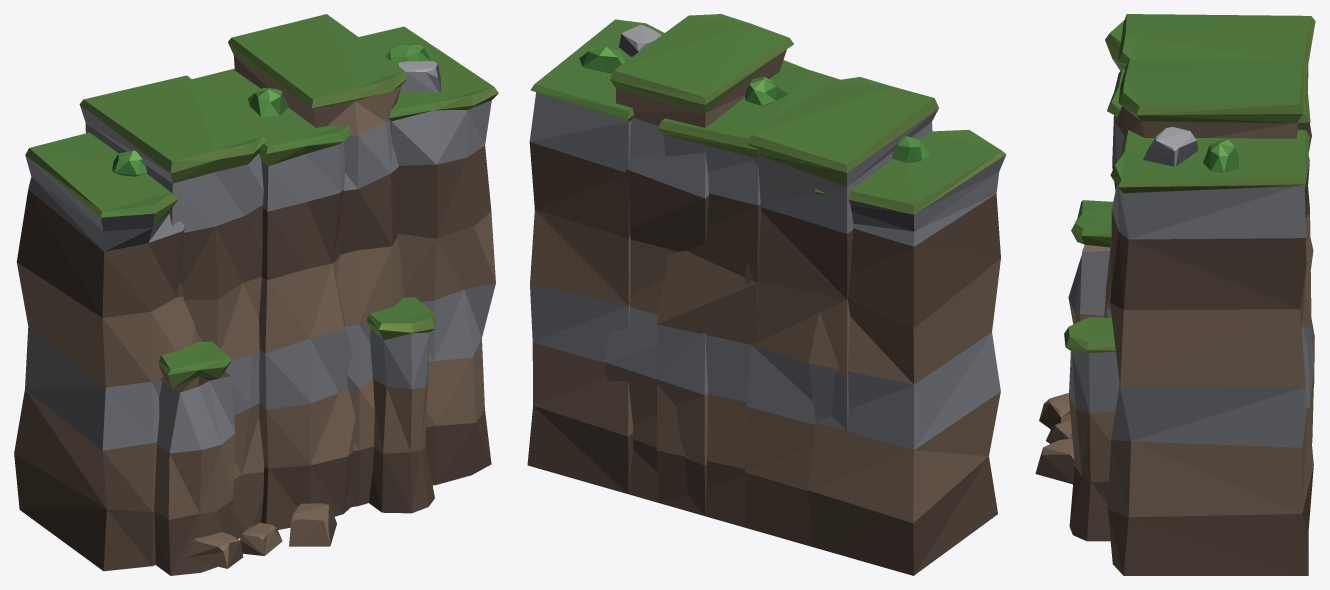
File: cliff_b.fbx
3 renders of one model, left to right at view 1: azimuth 30°, elevation 25°; view 2: azimuth 150°, elevation 25°; view 3: azimuth 270°, elevation 25°, orthographic. The views are drawn at different scales.
Visible parts, largest first — view 1: cliff_b; view 2: cliff_b; view 3: cliff_b.
Boxes of the visible parts, bbox=[...] form: cliff_b: bbox=[14, 14, 498, 575]; cliff_b: bbox=[527, 14, 1006, 575]; cliff_b: bbox=[1035, 14, 1315, 575].
Size of the model in its own units: 13.88 by 14.33 by 8.13.
